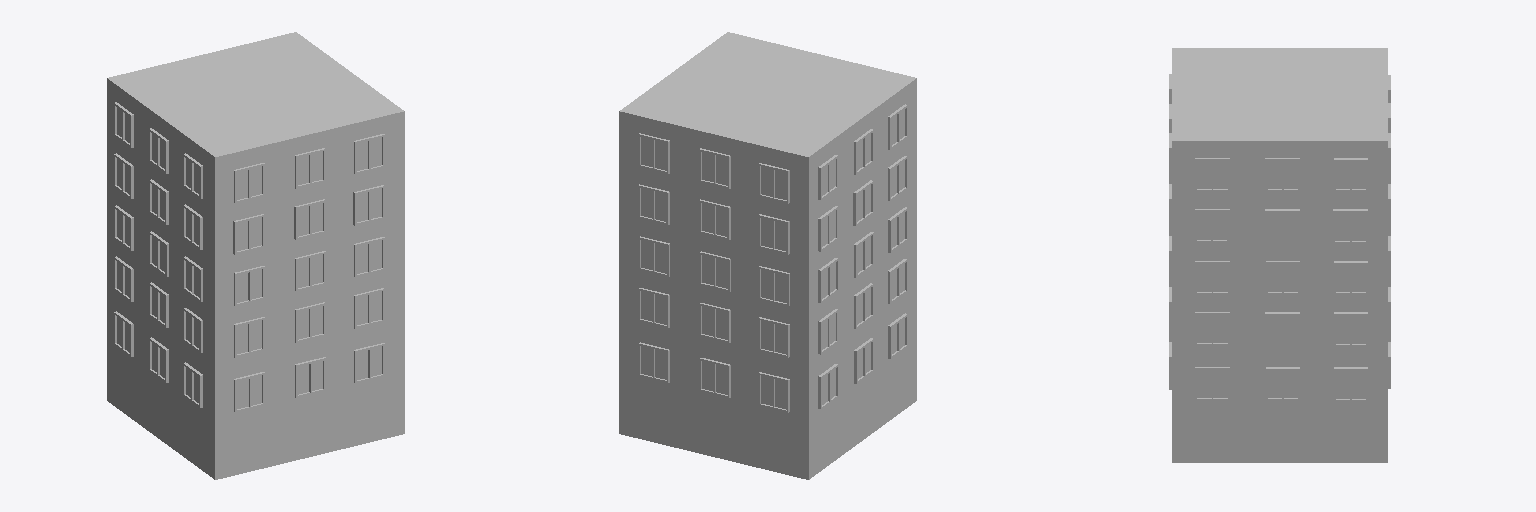
Rendered from NormalBuilding.obj.
The picture shows the model from 3 angles: view 1: azimuth 30°, elevation 25°; view 2: azimuth 150°, elevation 25°; view 3: azimuth 270°, elevation 25°; orthographic projection.
Visible parts, largest first — view 1: Cube; view 2: Cube; view 3: Cube.
Part boxes in pixels (x1,y1,x2,y2): Cube: (107, 32, 404, 479); Cube: (619, 32, 916, 479); Cube: (1169, 48, 1390, 462).
Bounding box in the file's own units: 3.94 × 6.21 × 3.88.